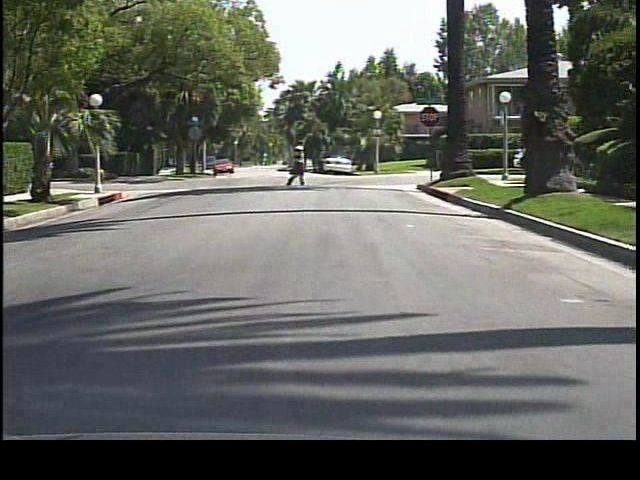person: (287, 139, 311, 188)
